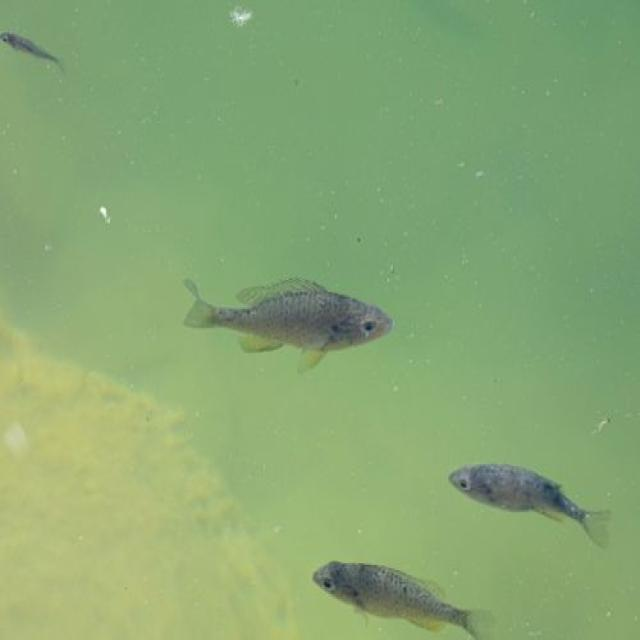Gunes Levregi: (170, 269, 407, 381)
